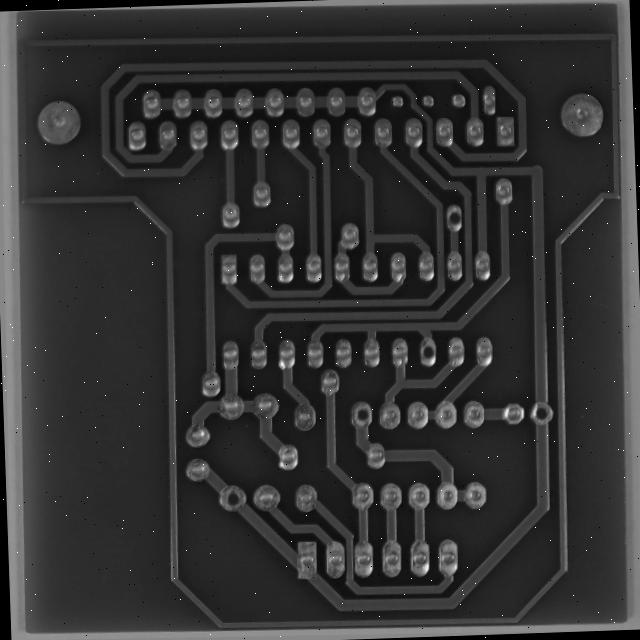missing_hole: (221, 489, 249, 517), (534, 397, 562, 422), (350, 402, 377, 427), (445, 200, 465, 226), (422, 338, 441, 361)
